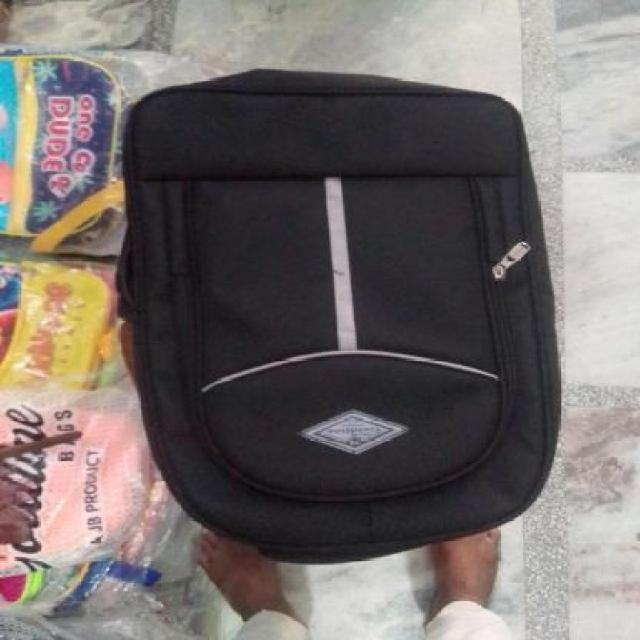backpack: (114, 62, 569, 570)
